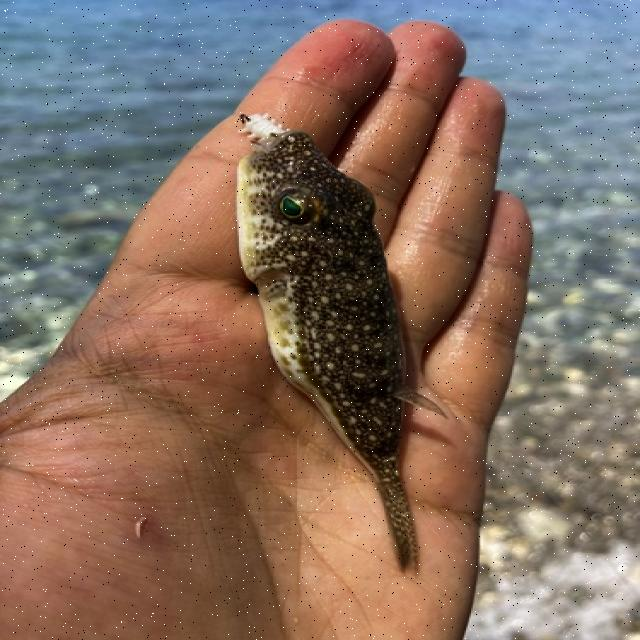Balik: (238, 116, 442, 569)
